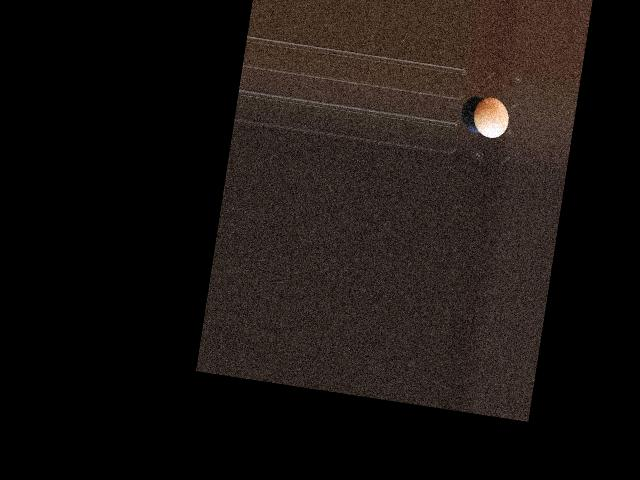egg: (470, 94, 511, 140)
